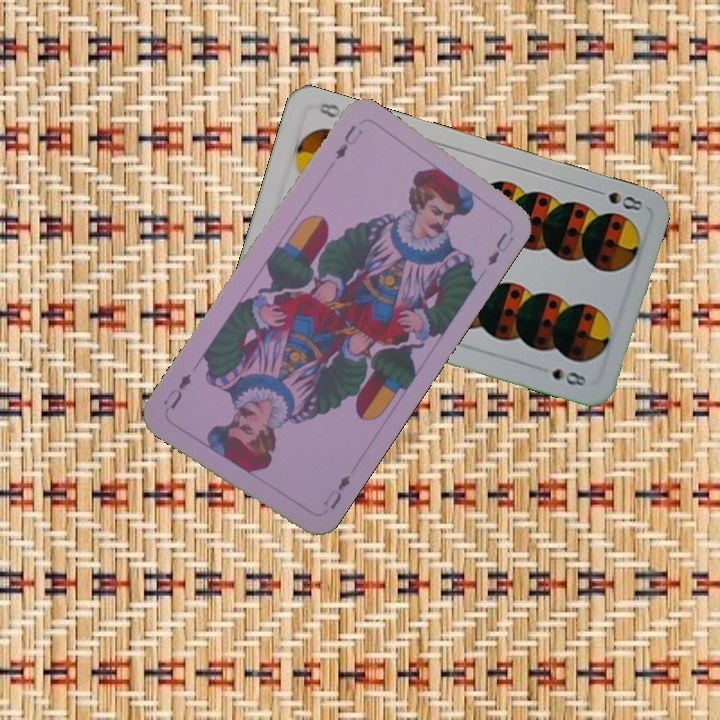EU: (330, 121, 366, 162), (319, 470, 353, 512)
S8: (588, 185, 645, 214)
